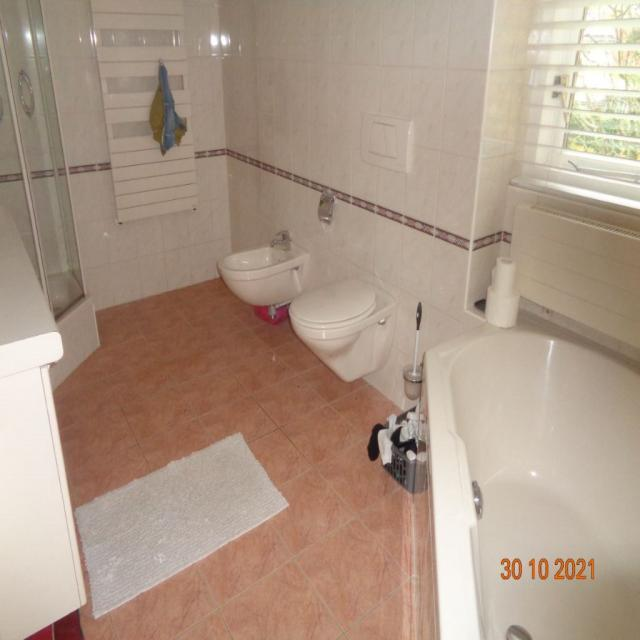bath: (413, 312, 640, 640)
designradiator: (91, 0, 199, 227)
douche: (0, 0, 99, 388)
toilet: (290, 111, 416, 383), (218, 230, 310, 320)
wastafel: (0, 363, 86, 640)
